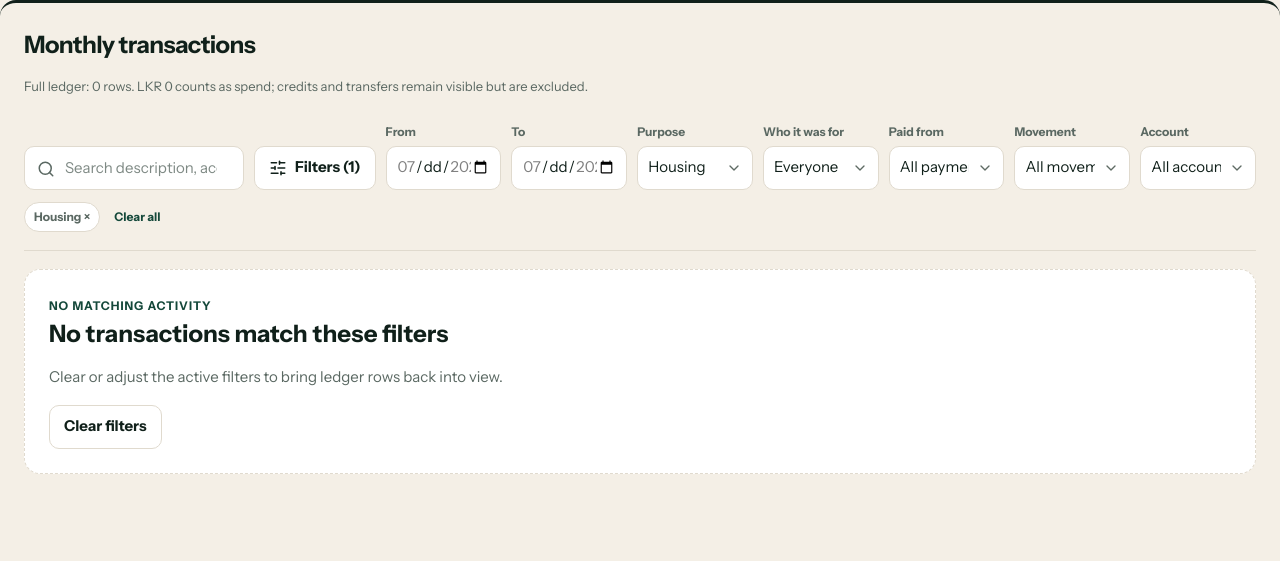
Scenario: TransactionsView beneficiary and payer workflow › shows a filtered empty state without rendering an orphan ledger table
Click the button "Clear filters": (105,426) [49, 404, 162, 448]
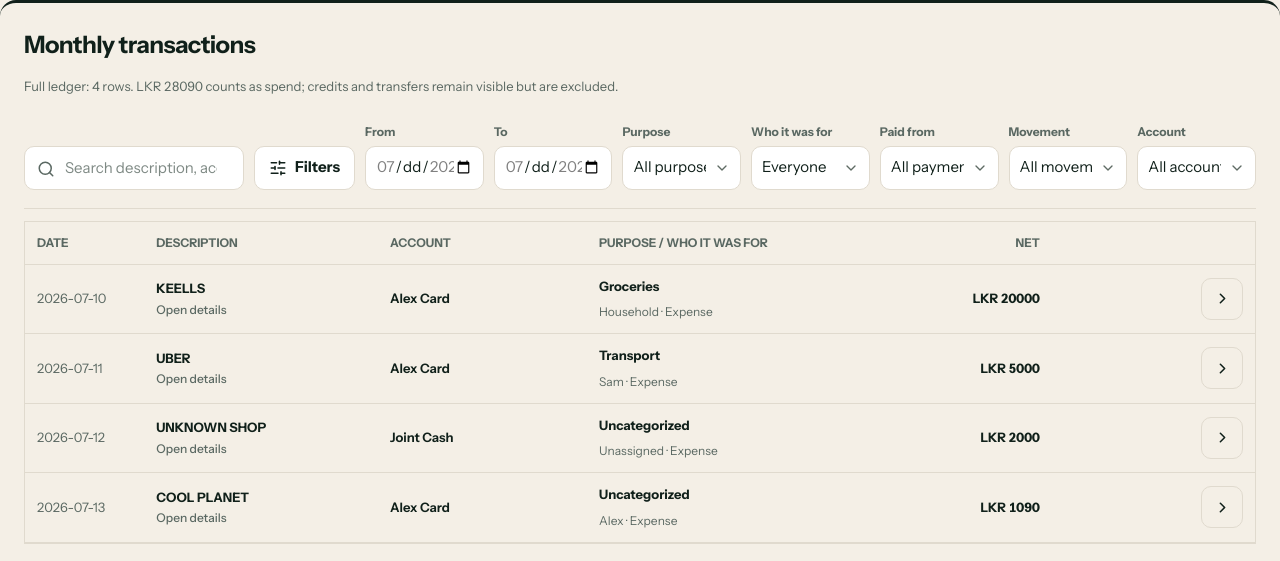
expect the button named "Open details for KEELLS" is shown: met, box [1201, 278, 1243, 320]
